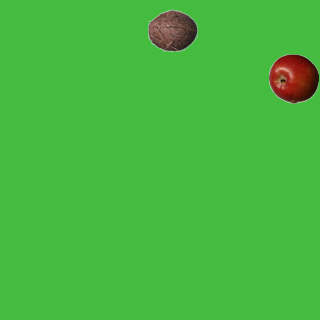Apple Braeburn: (268, 53, 318, 103)
Cocos: (147, 5, 197, 55)
